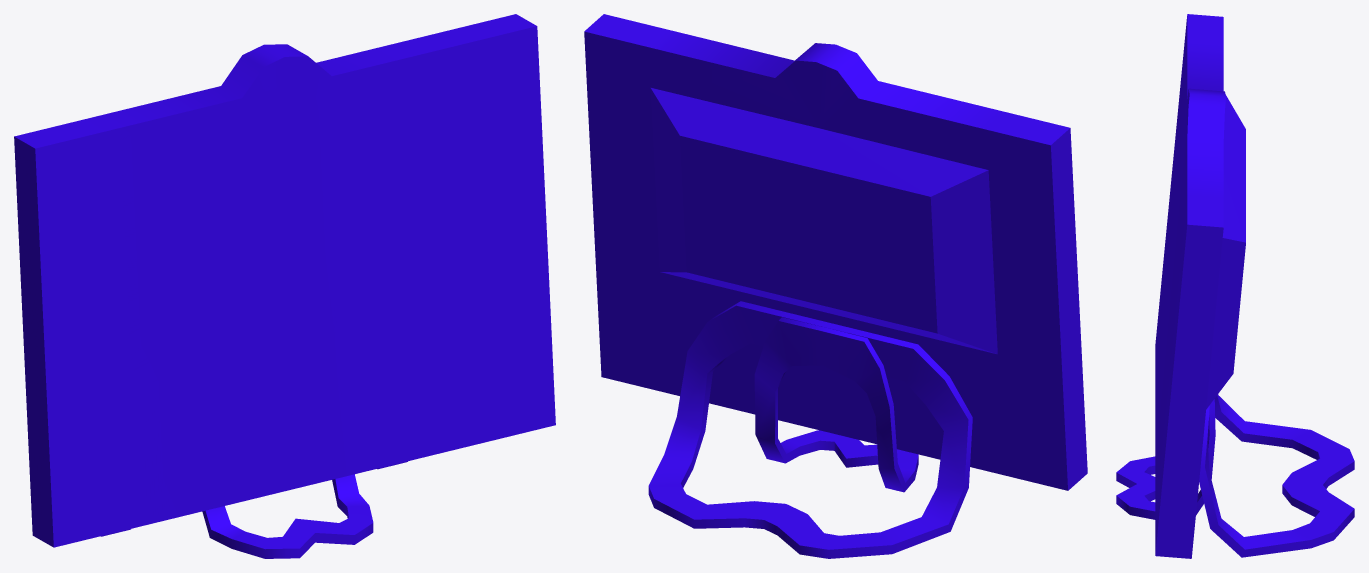
File: office_pack_allInOneComputer_1_meshCollider.fbx
3 views of the same model, side by side, from view 1: azimuth 30°, elevation 25°; view 2: azimuth 150°, elevation 25°; view 3: azimuth 270°, elevation 25° (orthographic). The views are drawn at different scales.
Visible parts, largest first — view 1: office_pack_allInOneComputer_1_meshCollider; view 2: office_pack_allInOneComputer_1_meshCollider; view 3: office_pack_allInOneComputer_1_meshCollider.
Boxes of the visible parts, left/top/right/bottom form: office_pack_allInOneComputer_1_meshCollider: left=14, top=14, right=555, bottom=558; office_pack_allInOneComputer_1_meshCollider: left=584, top=14, right=1087, bottom=558; office_pack_allInOneComputer_1_meshCollider: left=1116, top=14, right=1354, bottom=558.
Size of the model in its own units: 53.49 by 47.3 by 25.58.
